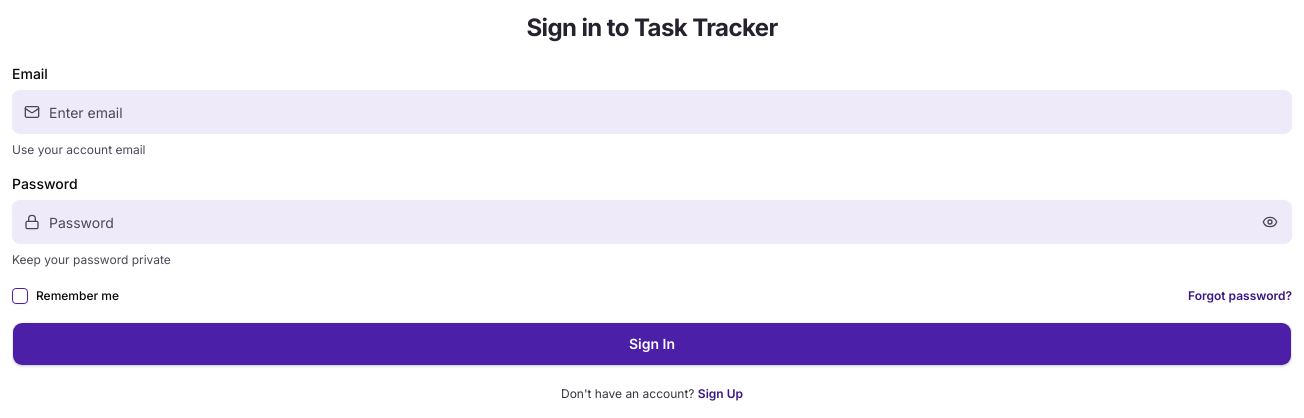
Test: LoginForm › shows inline validation errors when submitted empty
The width and height of the screenshot is (1304, 418).
Click the button "Sign In": x=652, y=344 x1=12 y1=322 x2=1292 y2=366
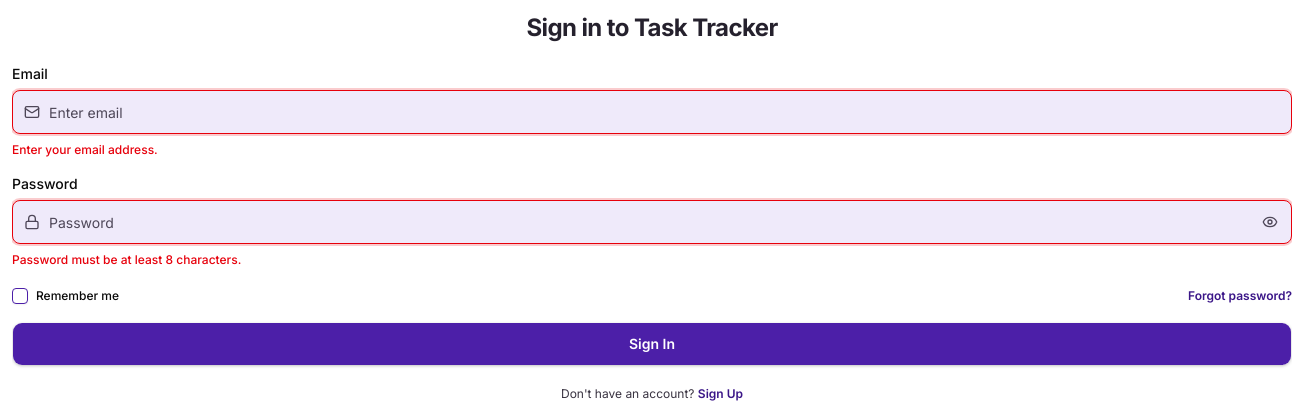
Result: the text "Enter your email address." is shown at x1=12 y1=142 x2=158 y2=157
Result: the text "Password must be at least 8 characters." is shown at x1=12 y1=252 x2=241 y2=267
